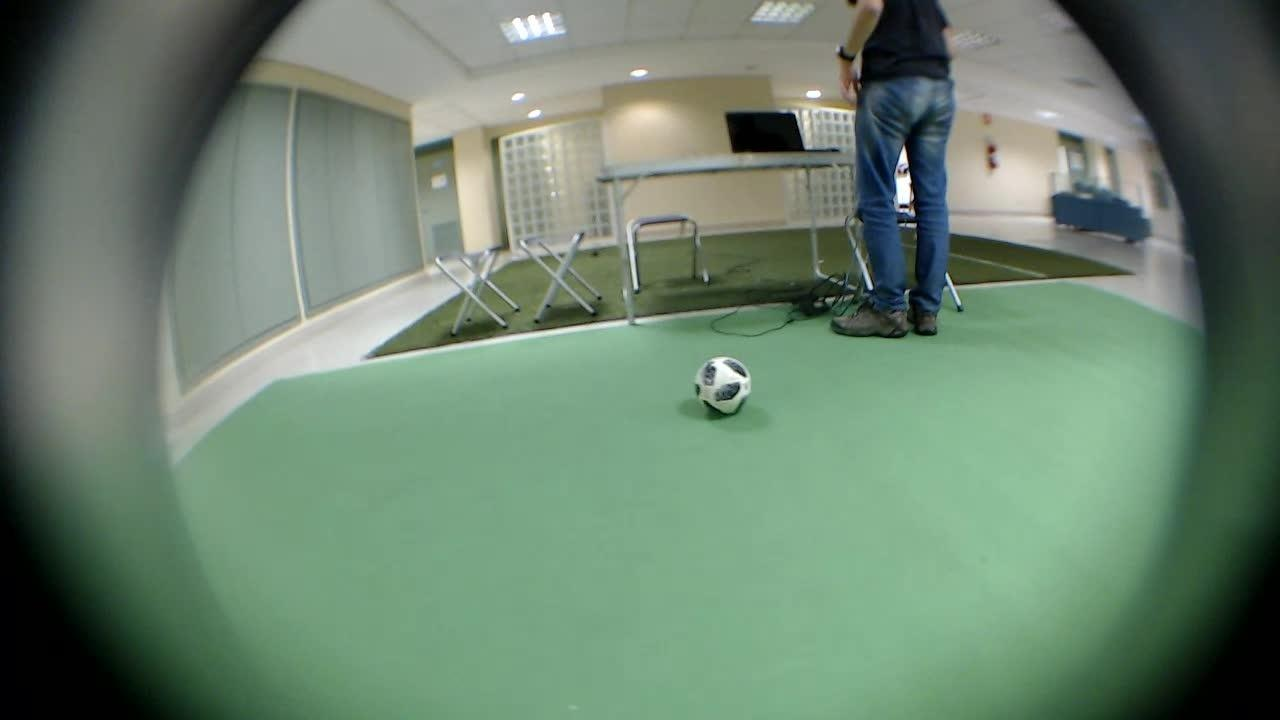ball: (683, 335, 765, 423)
